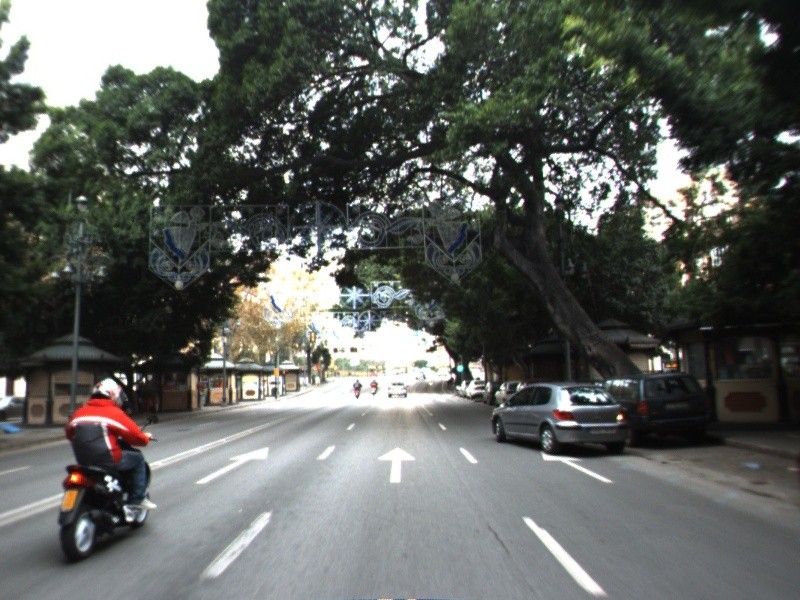STRAIGHT: (193, 445, 271, 486), (538, 448, 617, 485), (375, 446, 418, 485)
